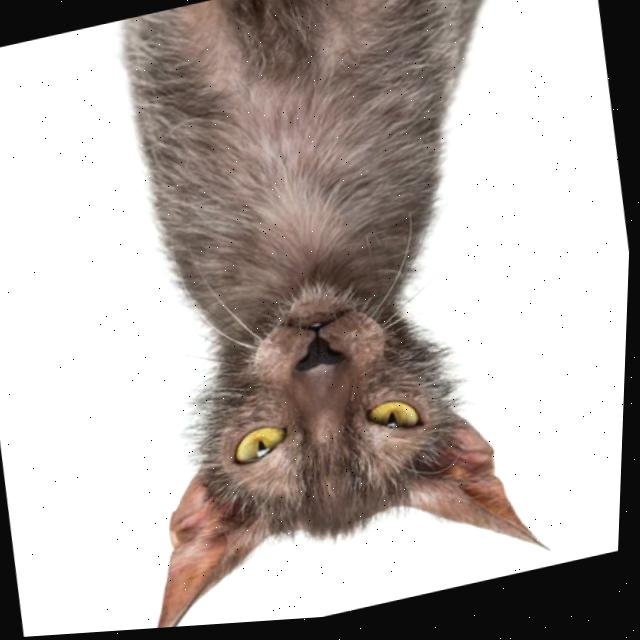Lykoi: (55, 0, 606, 636)
